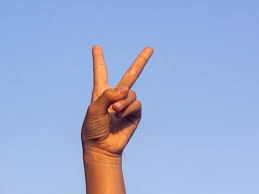peace_sign: (81, 33, 156, 153)
